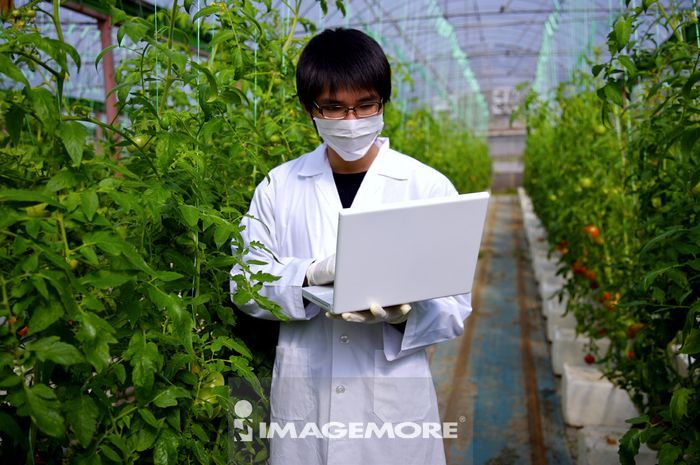mask: (314, 116, 384, 163)
